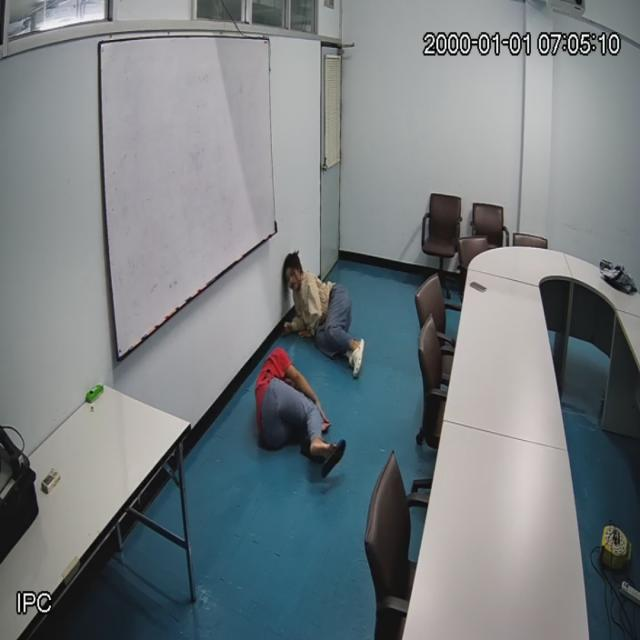fall: (252, 345, 354, 499), (274, 240, 380, 375)
